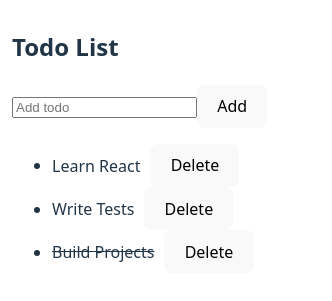
Test case: Todo List Component › adds a new todo
In the field with placeholder "Add todo": (104, 108) [12,97,197,118], type "New Task"
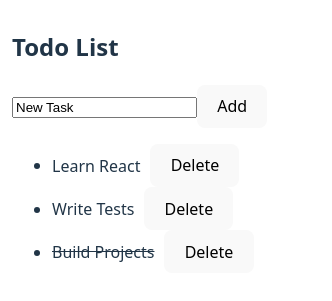
Click the button "Add": (232, 106) [197,84,267,128]
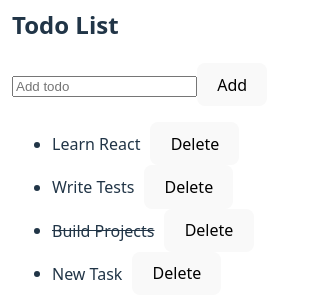
Result: the list item "New Task" is shown at [52,262,122,284]
